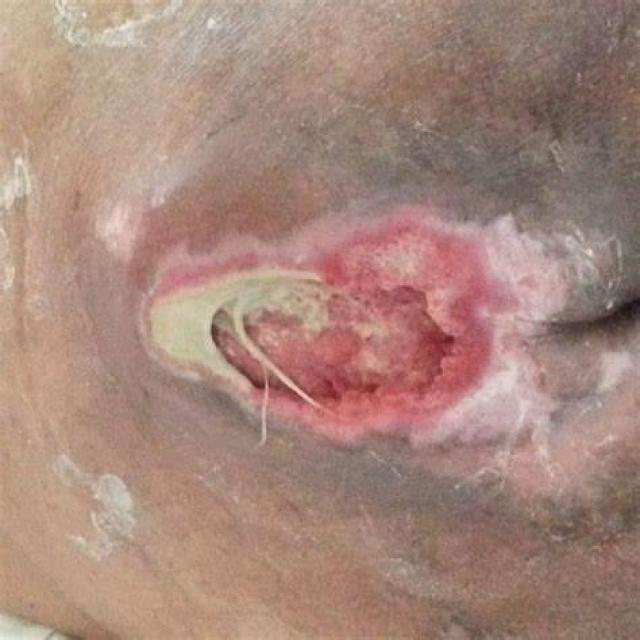stage-3: (149, 209, 498, 442)
